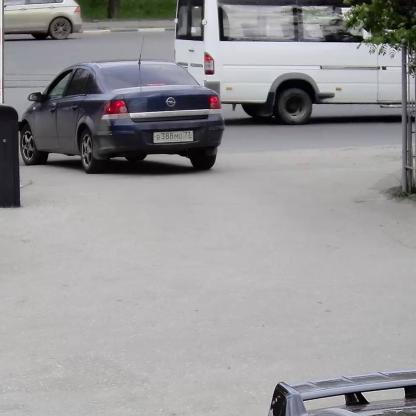plate: (153, 130, 193, 144)
